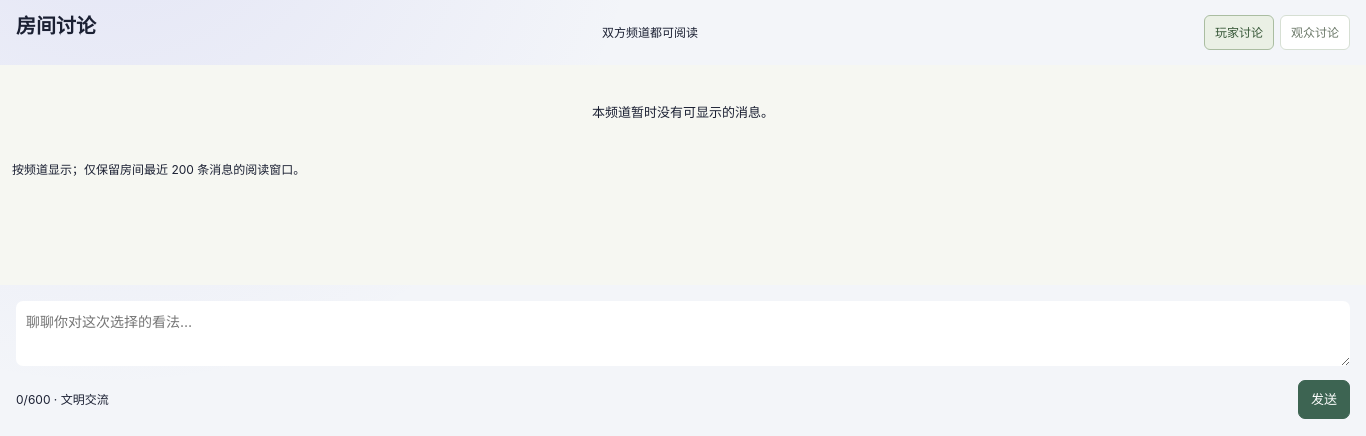
Test: rail workspace › queries the selected channel instead of losing quiet messages behind an active channel
Step 1. Click the tab "观众讨论" → [1315, 32], box [1280,15,1350,50]
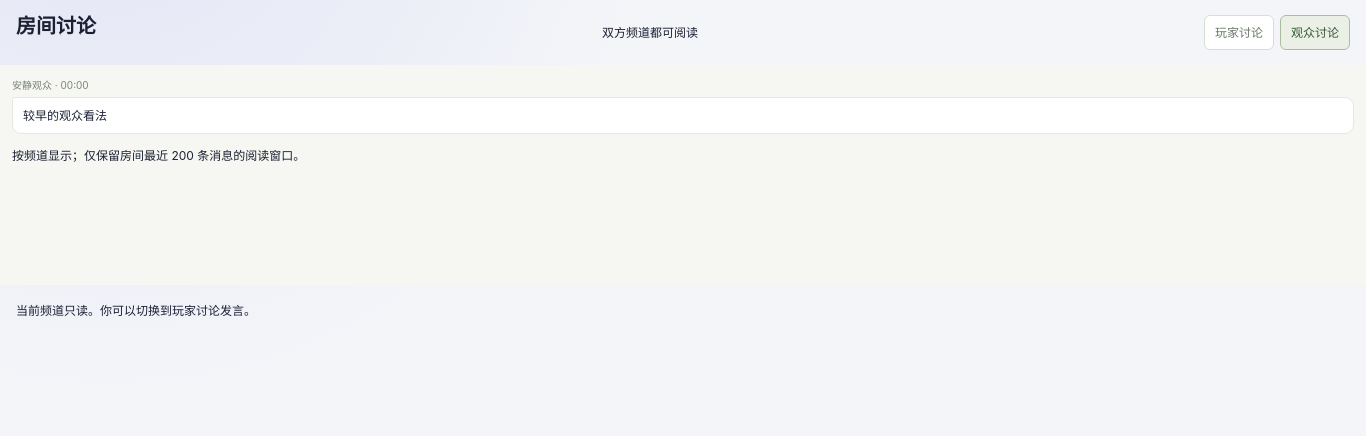
expect the text "按频道显示；仅保留房间最近 200 条消息的阅读窗口。" is shown: met, box [12,148,305,163]
expect the text "较早的观众看法" is shown: met, box [12,97,1354,134]
